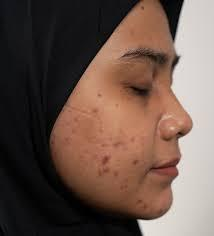Dry-Skin: (97, 151, 114, 169), (64, 124, 80, 143), (110, 137, 136, 147), (87, 108, 104, 123), (138, 29, 161, 40), (95, 91, 109, 99)
